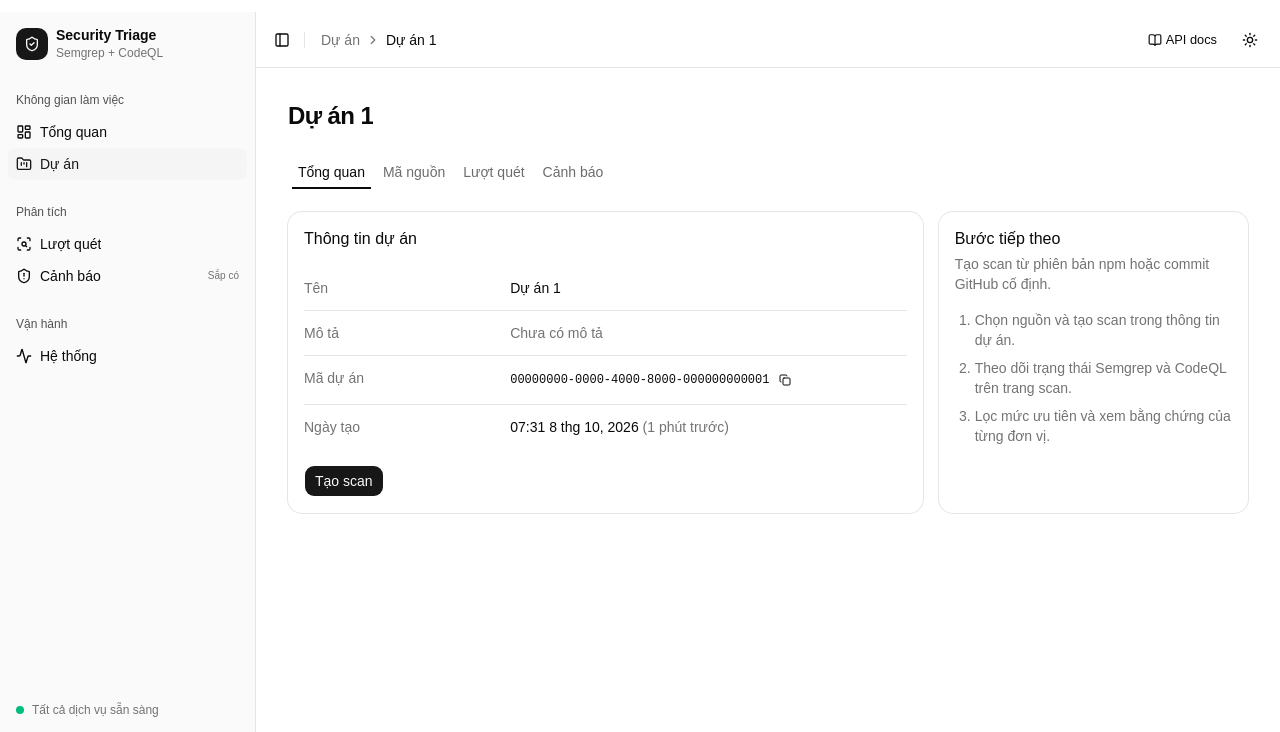
Project detail page › switches tabs through the URL and marks unbuilt features
Step 1. Click the tab "Mã nguồn" → (414, 172), box [376, 160, 452, 184]
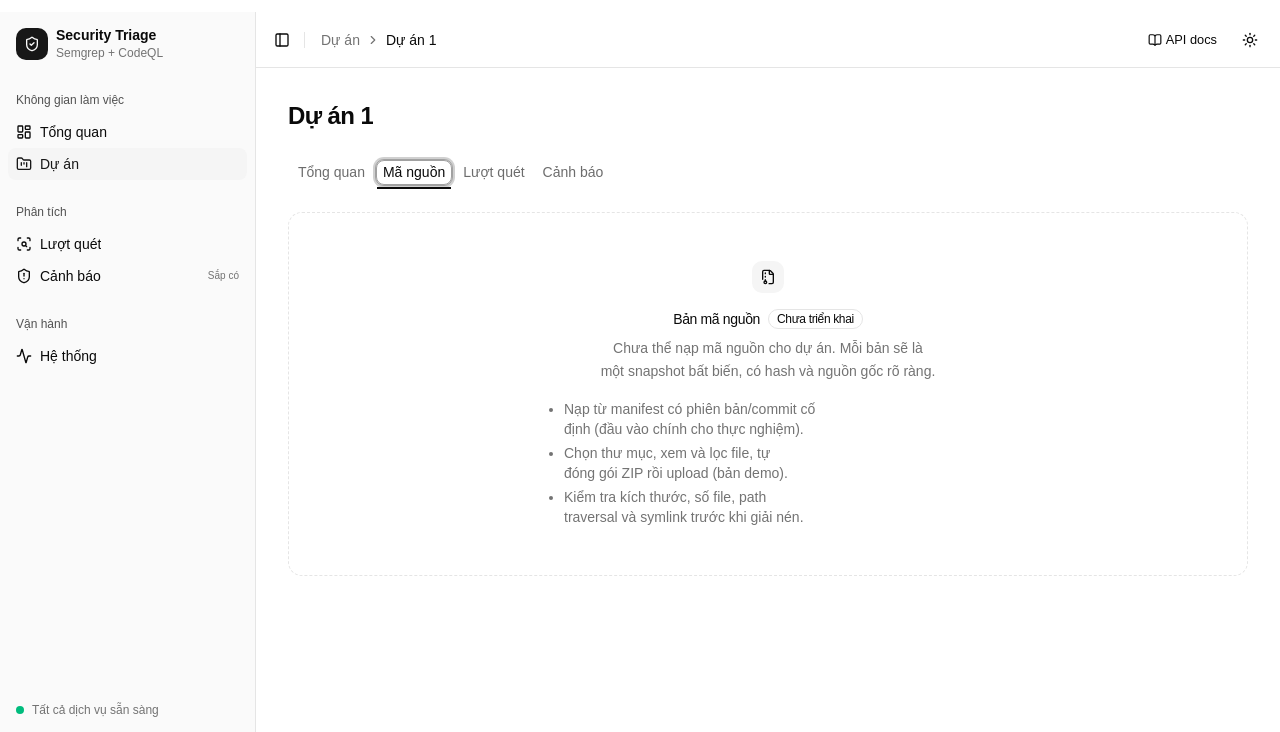
Check: the text "Bản mã nguồn" is shown, box [673, 311, 760, 327]
Check: the text "Chưa triển khai" is shown, box [768, 309, 863, 329]
